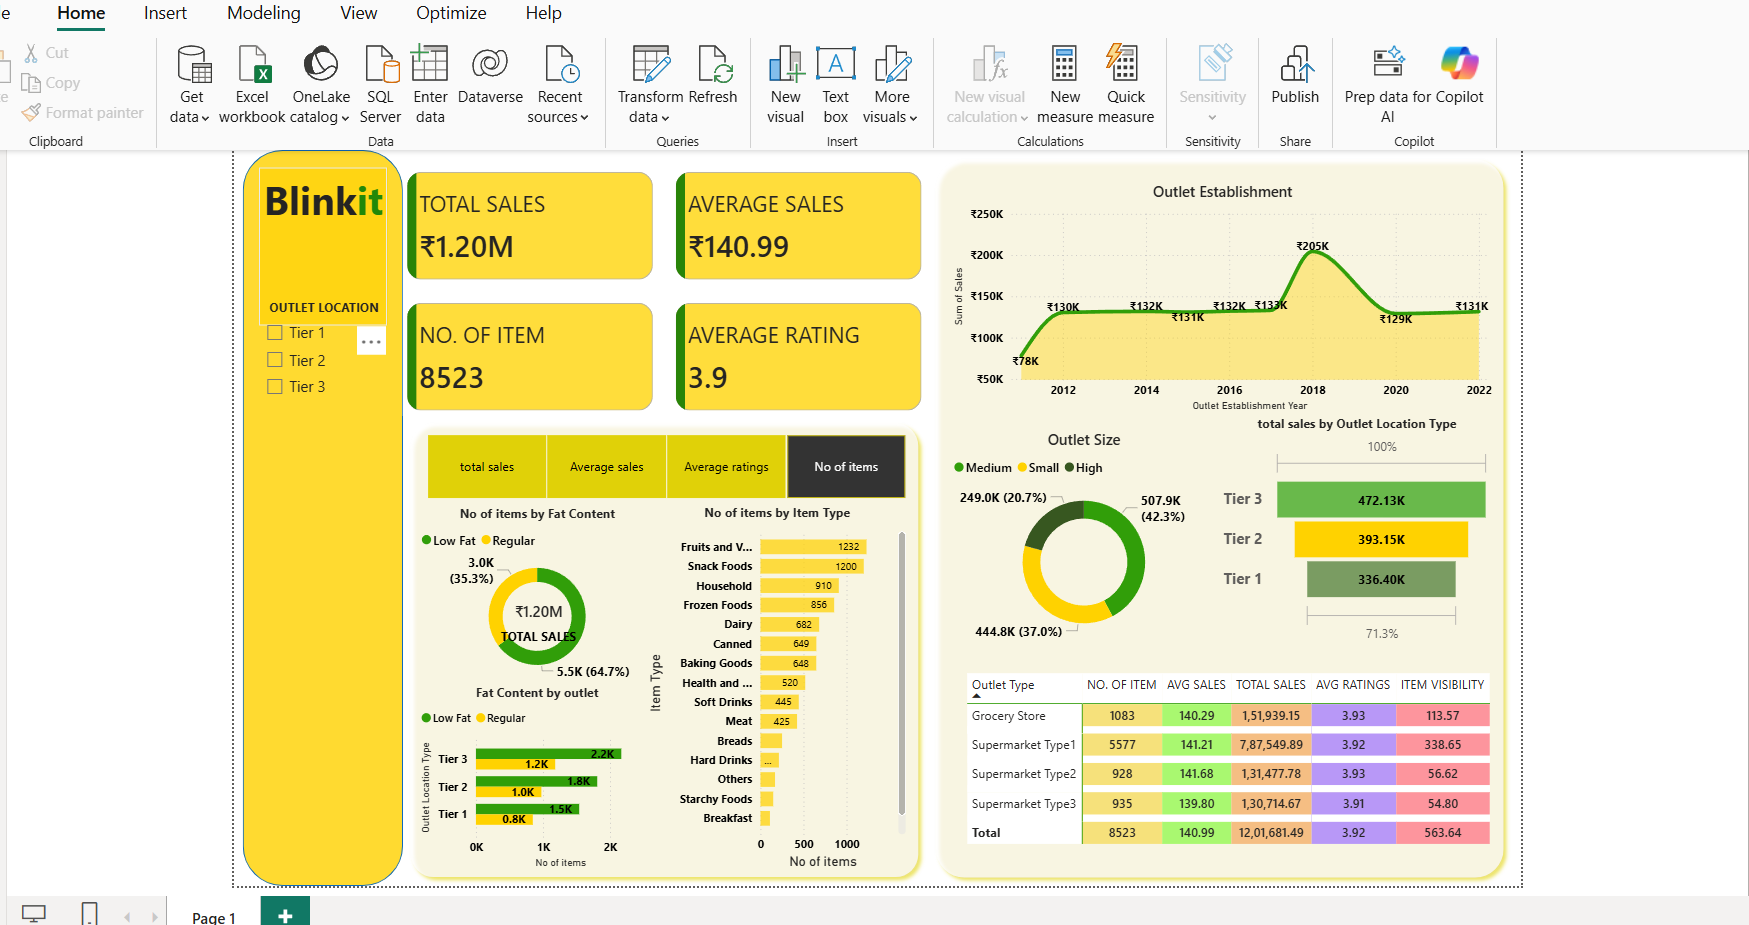

What the dashboard file says about the page in this screenshot:
{"tool":"powerbi","page":{"name":"Page 1","canvas":[1400,800],"ordinal":0},"visuals":[{"type":"shape","box":[9.7,0,174.2,800],"z":0},{"type":"textbox","box":[27.4,19.4,140.3,171],"z":1000},{"type":"cardVisual","fields":{"Data":["Sum(Sheet1.Sales)","Avg(Sheet1.Sales)","Sheet1.No of items","Avg(Sheet1.Rating)"]},"box":[183.9,19.4,569.4,269.4],"z":2000},{"type":"shape","box":[183.9,288.7,569.4,511.3],"z":3000},{"type":"donutChart","fields":{"Y":["Sheet1.No of items"],"Category":["Sheet1.Item Fat Content"]},"box":[198.1,385.7,262.7,195.1],"z":4000},{"type":"slicer","fields":{"Values":["Matrix.Matrix"]},"box":[184.6,303.2,568.8,82.5],"z":5000},{"type":"card","fields":{"Values":["Sum(Sheet1.Sales)"]},"box":[282.2,483.3,97.6,58.5],"z":6000},{"type":"clusteredBarChart","title":"Fat Content by outlet","fields":{"Category":["Sheet1.Outlet Location Type"],"Y":["Sheet1.No of items"],"Series":["Sheet1.Item Fat Content"]},"box":[198.1,580.8,262.7,205.6],"z":7001},{"type":"barChart","fields":{"Category":["Sheet1.Item Type"],"Y":["Sheet1.No of items"]},"box":[445.8,384.2,289.7,402.2],"z":7002},{"type":"shape","box":[753.4,1.5,634.9,798.5],"z":7003},{"type":"lineChart","title":"Outlet Establishment","fields":{"Y":["Sum(Sheet1.Sales)"],"Category":["Sheet1.Outlet Establishment Year"]},"box":[777.4,33.9,595.2,254.8],"z":7004},{"type":"donutChart","title":"Outlet Size","fields":{"Category":["Sheet1.Outlet Size"],"Y":["Sheet1.total sales"]},"box":[777.4,303.2,293.5,238.7],"z":7005},{"type":"funnel","fields":{"Y":["Sheet1.total sales"],"Category":["Sheet1.Outlet Location Type"]},"box":[1071,288.7,300,253.2],"z":7006},{"type":"pivotTable","fields":{"Values":["Sheet1.No of items","Sheet1.Average sales","Sheet1.total sales","Sheet1.Average ratings","Sum(Sheet1.Item Visibility)"],"Rows":["Sheet1.Outlet Type"]},"box":[791.9,564.5,596.8,203.2],"z":7007},{"type":"slicer","title":"OUTLET LOCATION","fields":{"Values":["Sheet1.Outlet Location Type"]},"box":[22.6,161.3,150,185.5],"z":7008}]}

Visuals, with their boxes on the page's 1400x800 design canvas (x1, y1, x2, y2). These are canvas units, not pixel positions in the 1749x925 screenshot, which may show the page scaled, cropped or inside an application window:
shape: select_region(10, 0, 184, 800)
textbox: select_region(27, 19, 168, 190)
cardVisual - Sum(Sheet1.Sales) x Avg(Sheet1.Sales): select_region(184, 19, 753, 289)
shape: select_region(184, 289, 753, 800)
donutChart - Sheet1.No of items x Sheet1.Item Fat Content: select_region(198, 386, 461, 581)
slicer - Matrix.Matrix: select_region(185, 303, 753, 386)
card - Sum(Sheet1.Sales): select_region(282, 483, 380, 542)
"Fat Content by outlet" clusteredBarChart: select_region(198, 581, 461, 786)
barChart - Sheet1.Item Type x Sheet1.No of items: select_region(446, 384, 736, 786)
shape: select_region(753, 2, 1388, 800)
"Outlet Establishment" lineChart: select_region(777, 34, 1373, 289)
"Outlet Size" donutChart: select_region(777, 303, 1071, 542)
funnel - Sheet1.total sales x Sheet1.Outlet Location Type: select_region(1071, 289, 1371, 542)
pivotTable - Sheet1.No of items x Sheet1.Average sales: select_region(792, 564, 1389, 768)
"OUTLET LOCATION" slicer: select_region(23, 161, 173, 347)
